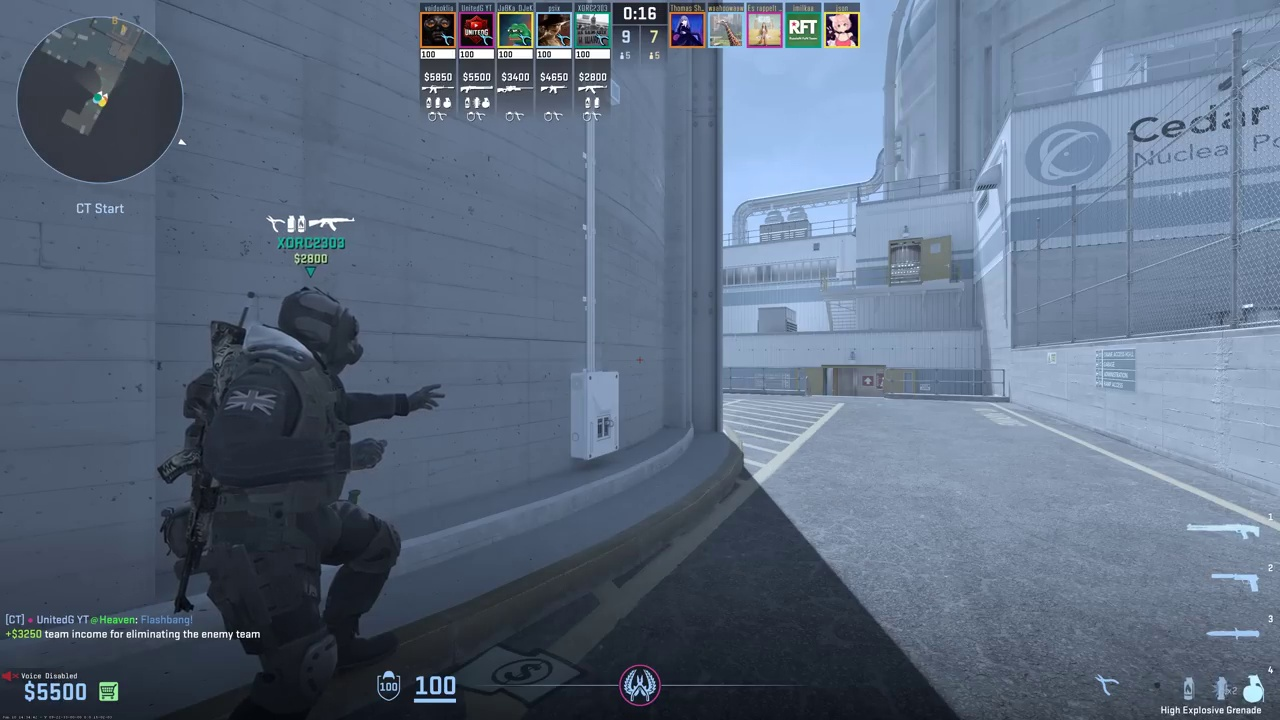CT: (190, 289, 403, 710)
